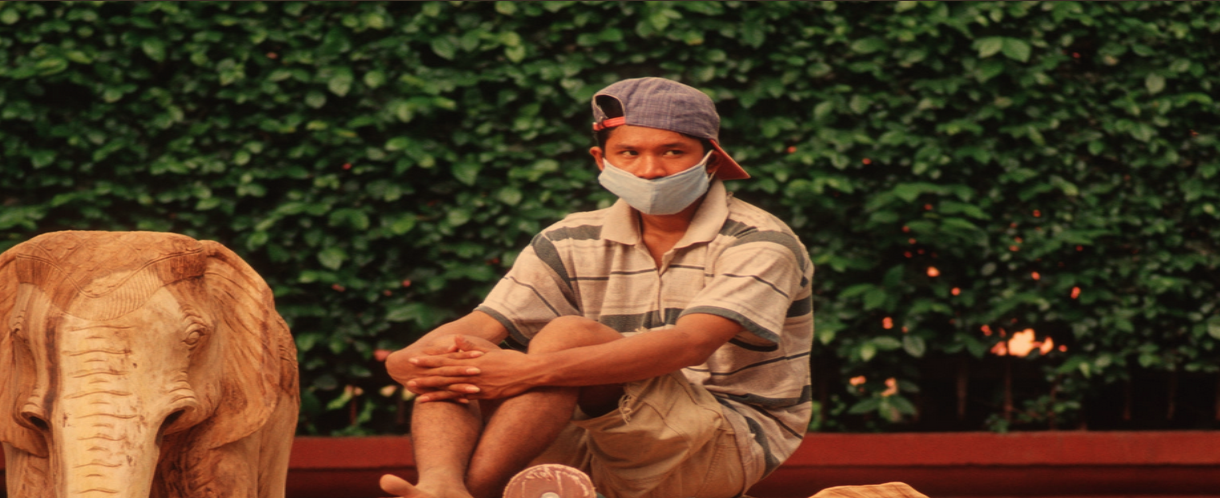mask_weared_incorrect: (583, 75, 741, 227)
